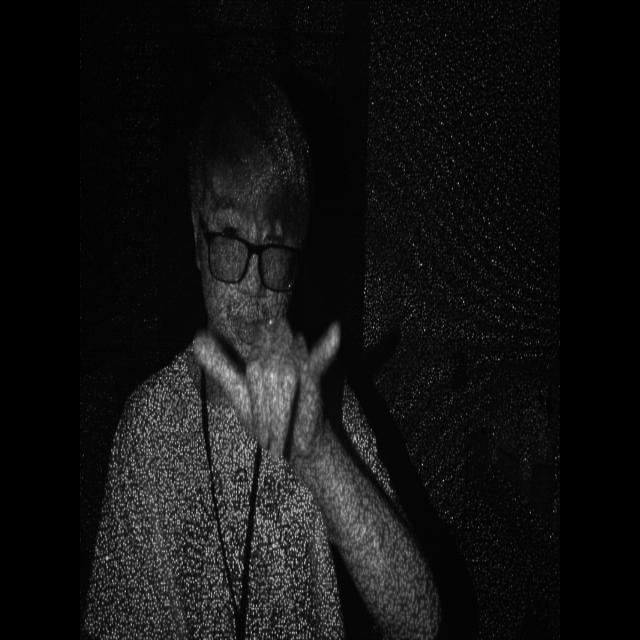Y: (183, 320, 360, 484)
